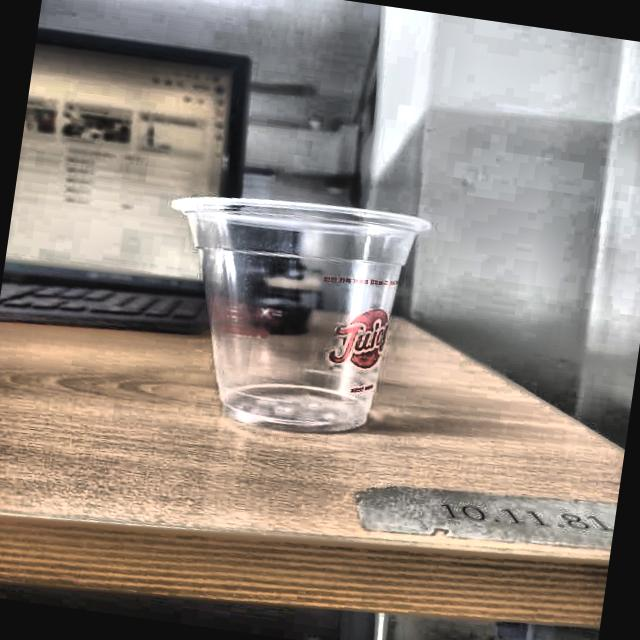plastic cup: (141, 178, 436, 448)
